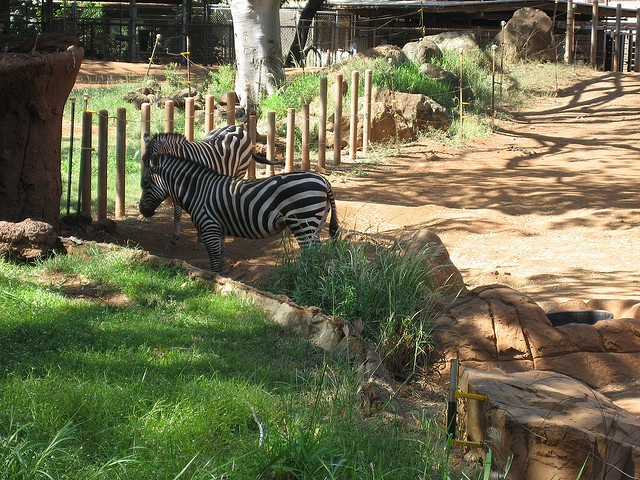zebra: (241, 211, 444, 331), (198, 152, 308, 209)
